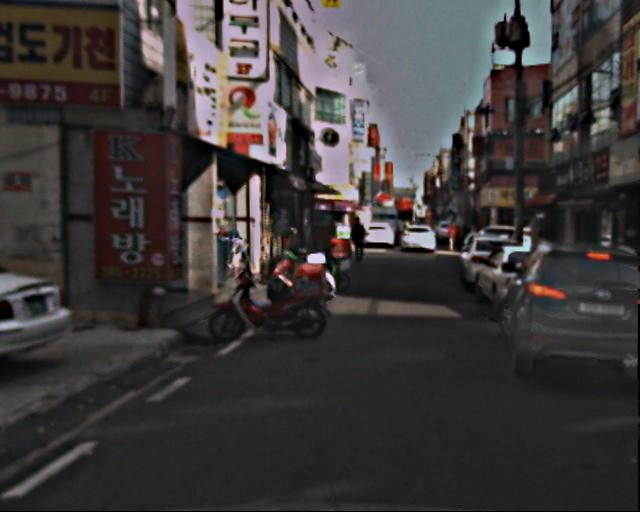person: (347, 215, 368, 266), (443, 222, 463, 254)
